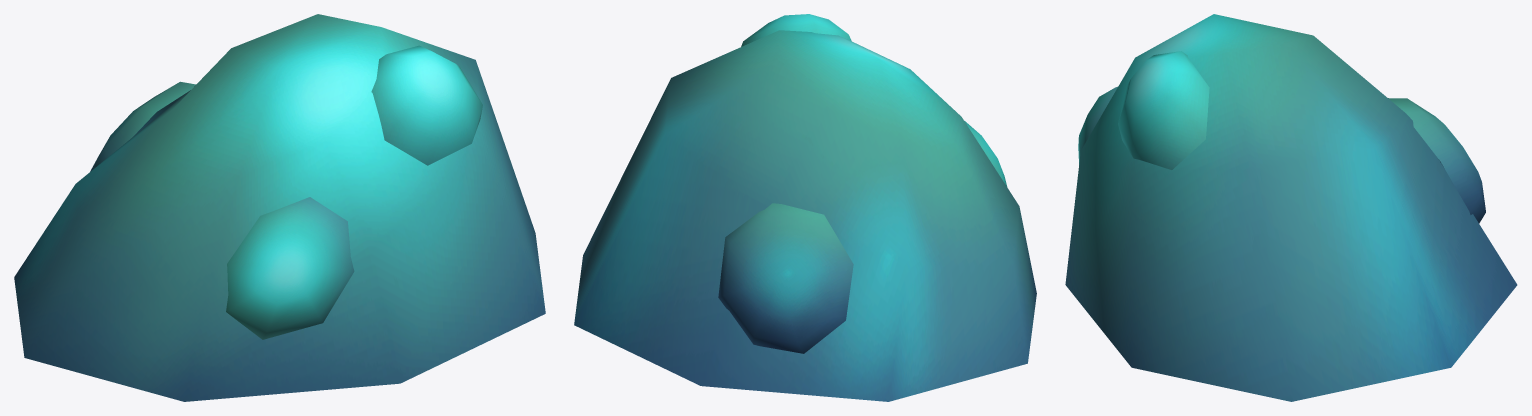
File: t2_m_ara_dpl_rockBlue.fbx
3 renders of one model, left to right at view 1: azimuth 30°, elevation 25°; view 2: azimuth 150°, elevation 25°; view 3: azimuth 270°, elevation 25°, orthographic. The views are drawn at different scales.
Parts seen in each view (by area): view 1: t2_m_ara_dpl_rockBlue; view 2: t2_m_ara_dpl_rockBlue; view 3: t2_m_ara_dpl_rockBlue.
Part boxes in pixels (x1=…): t2_m_ara_dpl_rockBlue: x1=14, y1=14, x2=545, y2=401; t2_m_ara_dpl_rockBlue: x1=574, y1=14, x2=1036, y2=401; t2_m_ara_dpl_rockBlue: x1=1065, y1=14, x2=1517, y2=401.
Size of the model in its own units: 2.38 by 1.24 by 1.94.
1 material, 1 textured.
